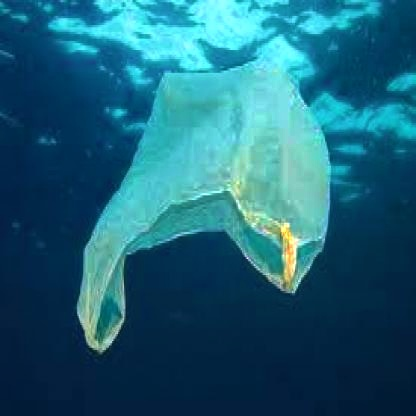pbag: (72, 57, 330, 359)
